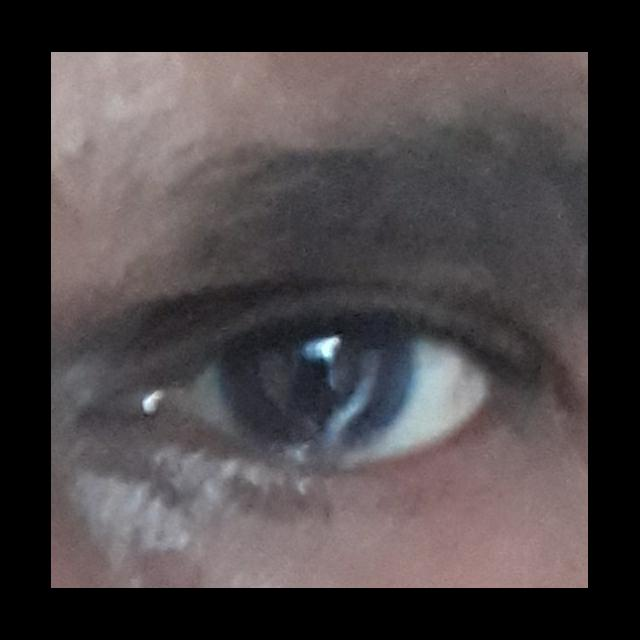eye: (175, 323, 491, 464)
iris: (225, 327, 415, 450)
